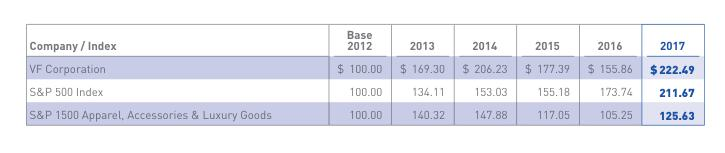table: (28, 29, 693, 121)
table column: (28, 29, 303, 121), (303, 29, 390, 121), (452, 29, 515, 121), (577, 29, 640, 121), (390, 29, 452, 121), (515, 29, 577, 121), (640, 29, 693, 121)
table column header: (28, 29, 693, 57)
table row: (28, 29, 693, 57), (28, 57, 693, 81), (28, 81, 693, 104), (28, 104, 693, 121)
